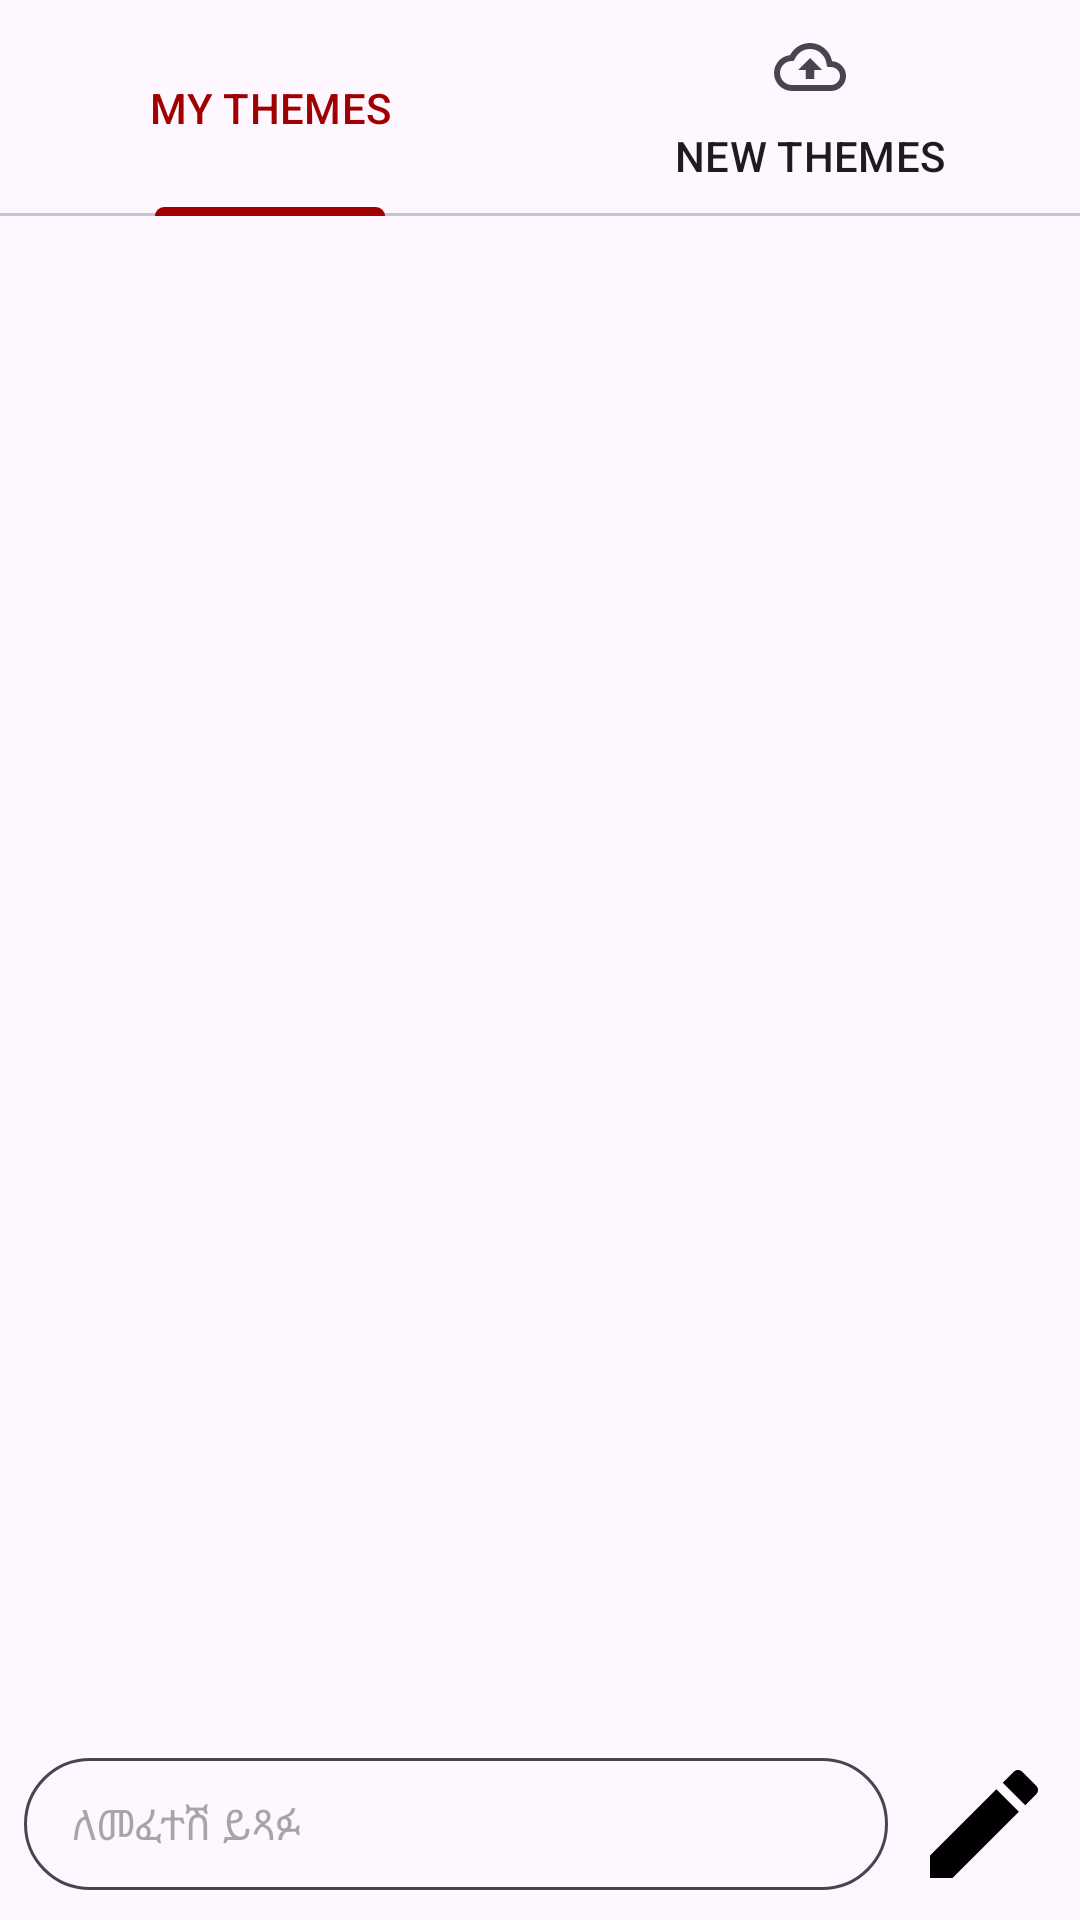

Where icons sit on this 1080×1920 app screen, as bbox=(x1, y1, x2, y2):
Edit test input action: bbox=(930, 1770, 1038, 1878)
